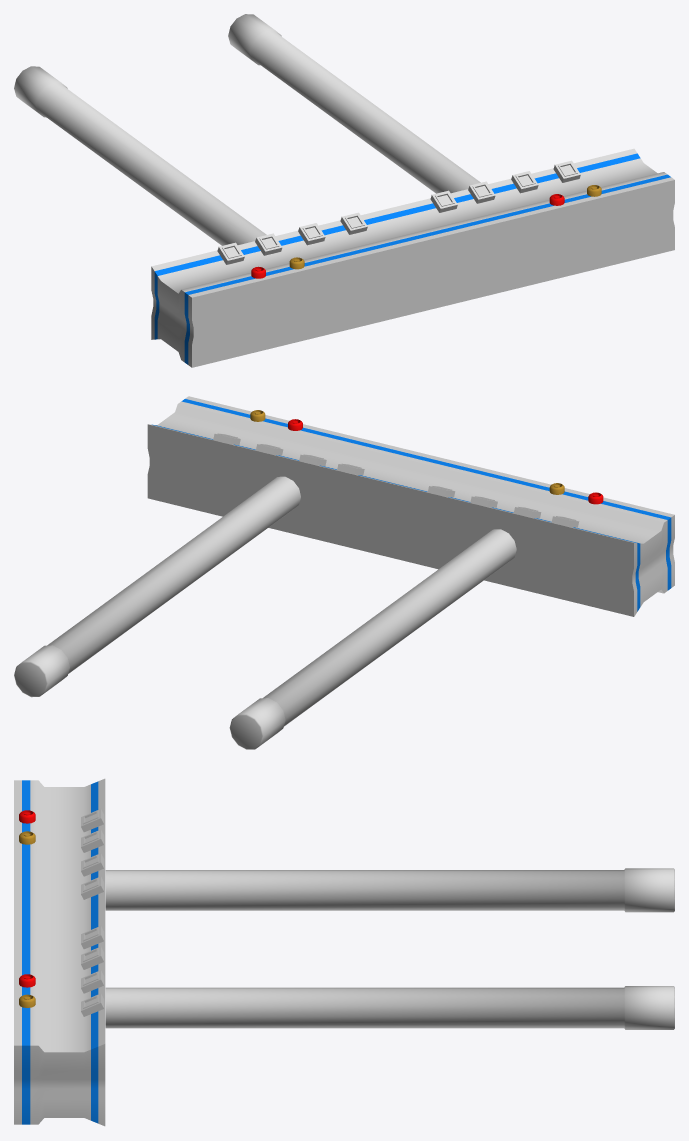
The picture shows the model from 3 angles, top to bottom: view 1: azimuth 30°, elevation 25°; view 2: azimuth 150°, elevation 25°; view 3: azimuth 270°, elevation 25°; orthographic projection. The views are drawn at different scales.
Visible parts, largest first — view 1: Cube; view 2: Cube; view 3: Cube.
Part boxes in pixels (left/top/right/bottom): Cube: left=14, top=14, right=674, bottom=367; Cube: left=14, top=396, right=674, bottom=749; Cube: left=14, top=778, right=674, bottom=1126.
Bounding box in the file's own units: 220 × 34.2 × 232.
